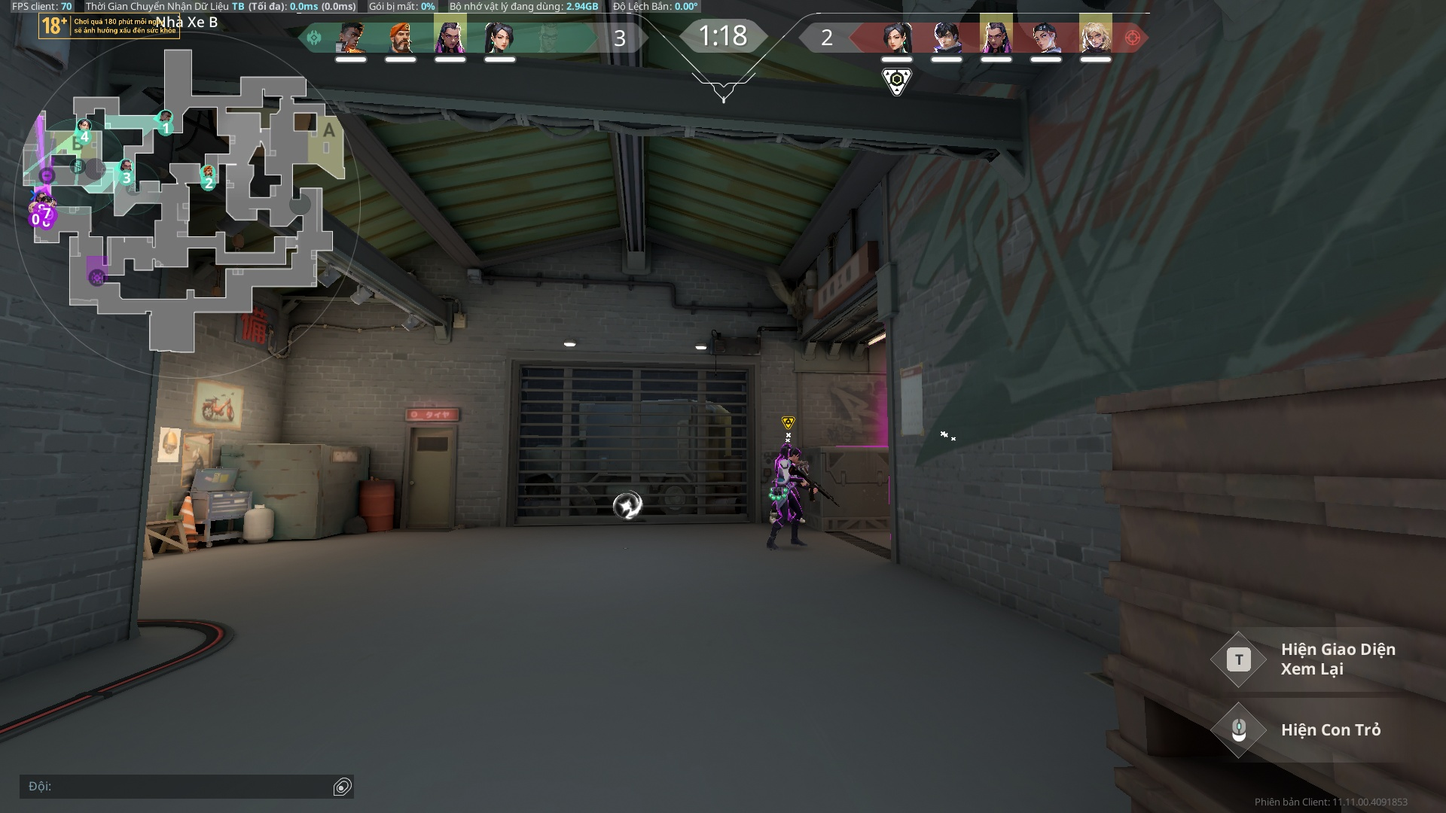body: (776, 458, 798, 488)
head: (783, 443, 800, 461)
